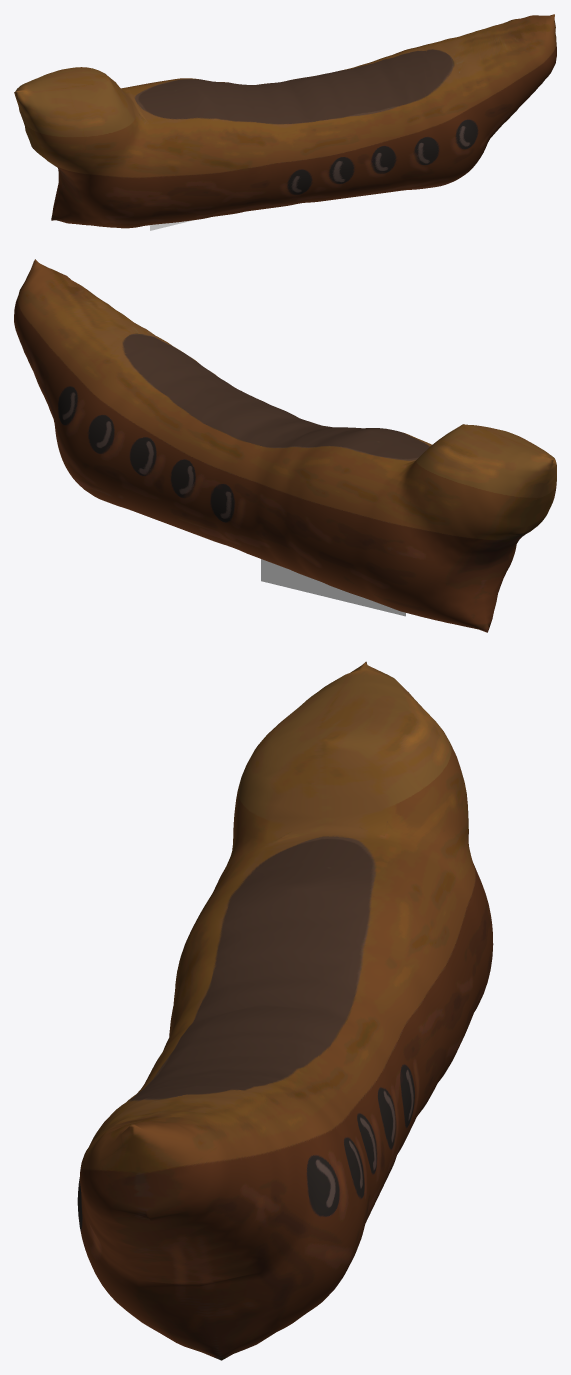
Rendered from ShipBottom.fbx.
3 renders of one model, top to bottom at view 1: azimuth 30°, elevation 25°; view 2: azimuth 150°, elevation 25°; view 3: azimuth 270°, elevation 25°, orthographic. The views are drawn at different scales.
Visible parts, largest first — view 1: root; view 2: root (×2); view 3: root.
Part boxes in pixels (box(x1,y1,x2,y2)): root: box(14, 14, 556, 228); root (×2): box(14, 259, 556, 632); root: box(77, 661, 493, 1360).
Bounding box in the file's own units: 3.97 × 1.31 × 1.47.
Materials: 2 (2 with a texture image).
